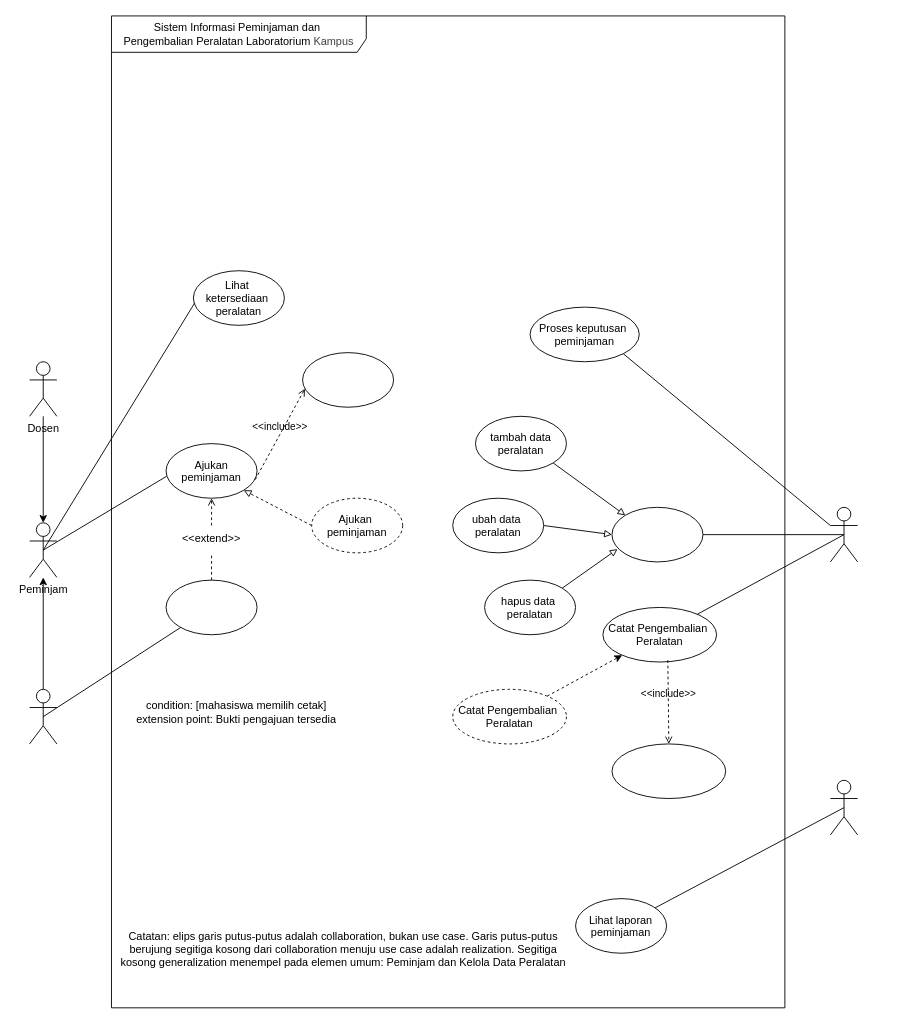
The diagram is 901 pixels wide and 1024 high, and some of its shapes have lost their labels. The shapes that lost their labels are listed below. From the top down, each one's centre as x and y in pixels, then its label:
the point at 348,379: Periksa keterssediaan
the point at 657,534: Kelola data peralatan
the point at 843,534: Petugas Laboran
the point at 211,607: Cetak bukti pengajuan
the point at 43,716: Mahasiswa
the point at 668,771: Periksa kondisi peralatan
the point at 843,807: Kepala Laboran
